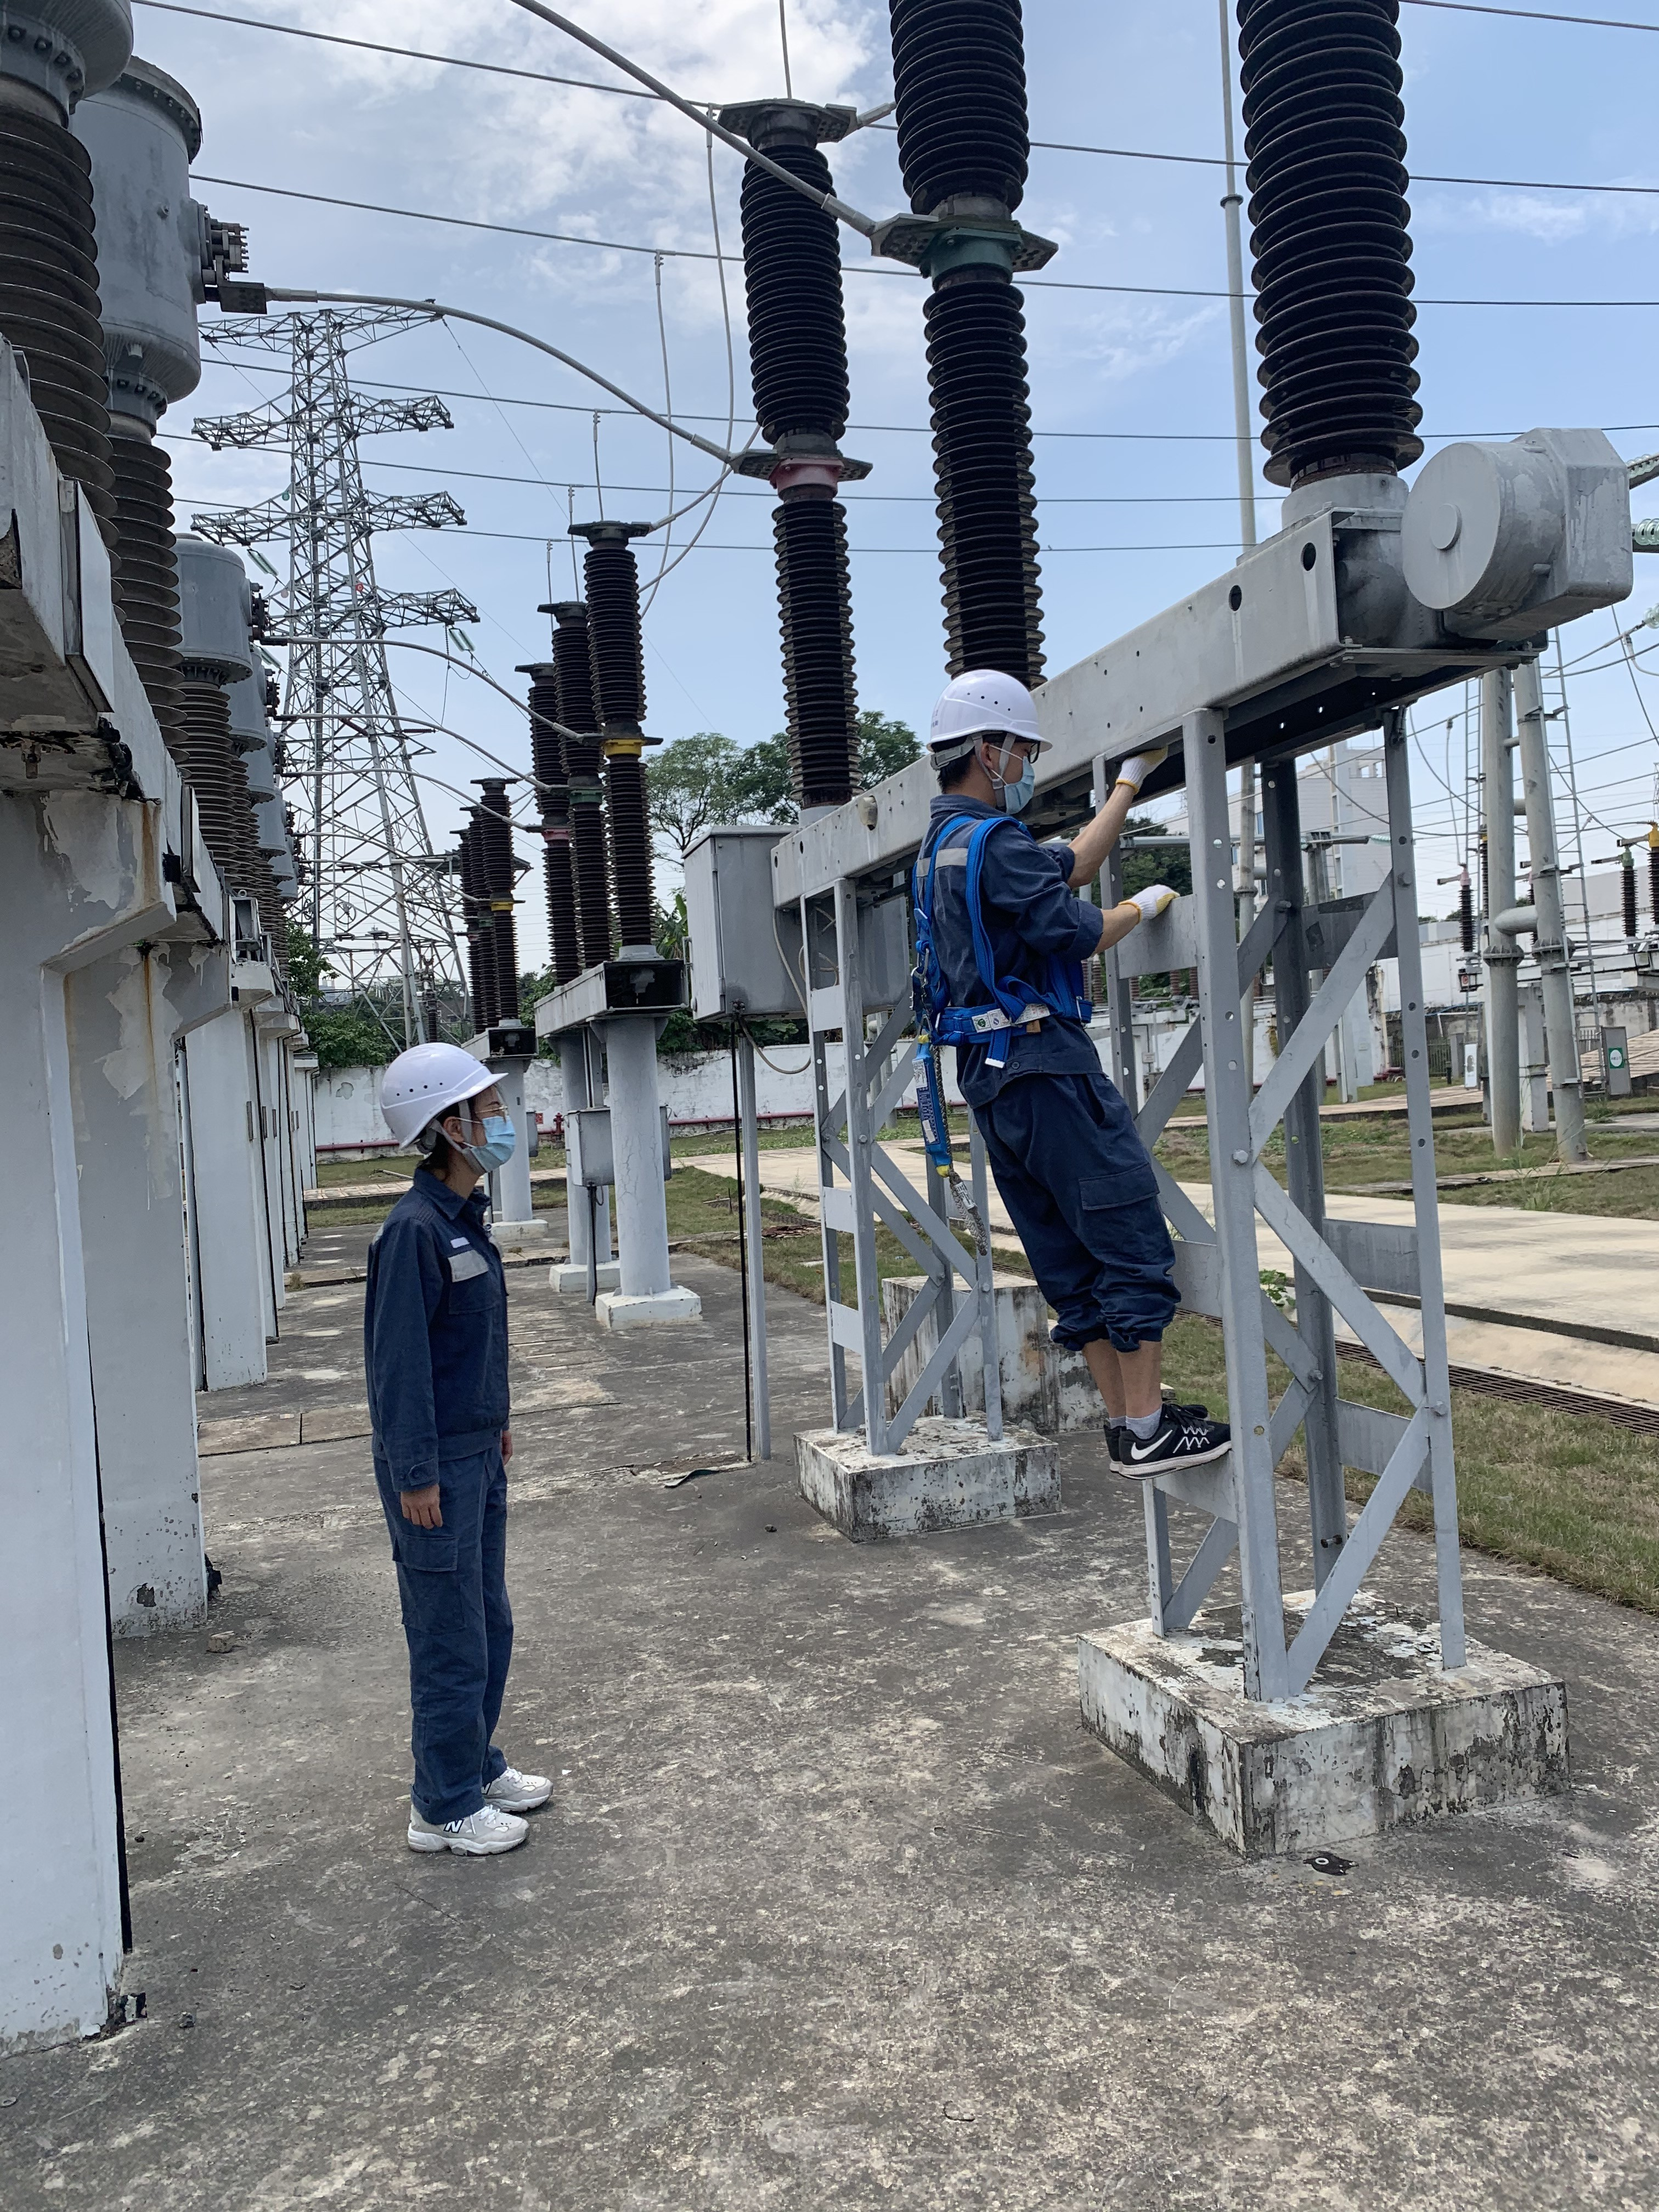downsuit: (964, 1057, 1194, 1346), (404, 1493, 511, 1822)
upsuit: (352, 1181, 514, 1458), (903, 799, 1112, 1003)
wrongbottom: (1068, 1306, 1190, 1444)
wrongtop: (1054, 787, 1185, 961)
